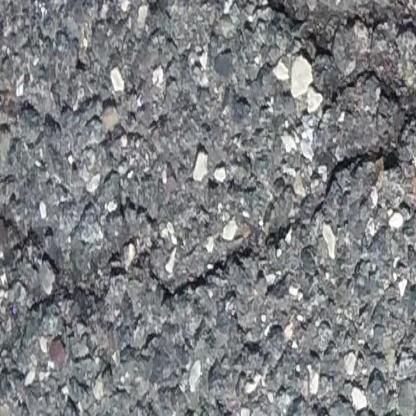Cracks: (0, 70, 416, 388), (218, 0, 416, 65), (27, 0, 83, 4)
